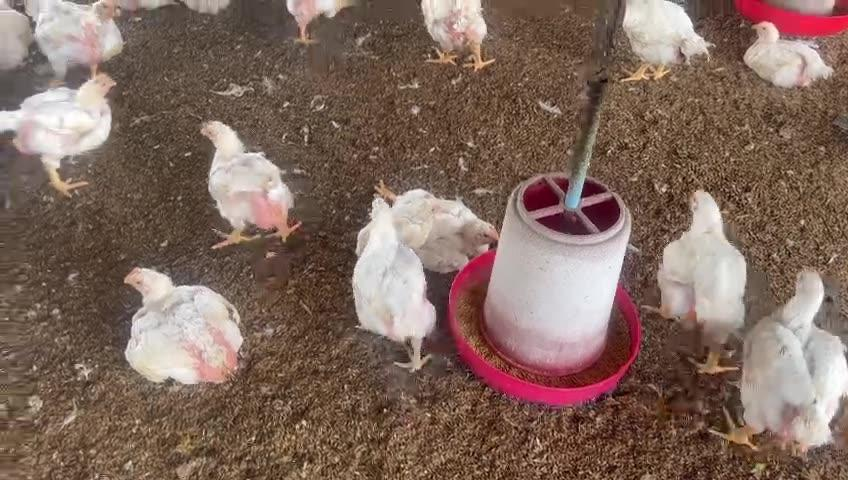AbNormal: (123, 267, 242, 387), (377, 178, 496, 268), (357, 199, 445, 264), (743, 22, 832, 85)
Normal: (718, 268, 847, 458), (662, 182, 744, 381), (0, 73, 117, 196), (351, 201, 432, 368), (199, 120, 301, 245), (35, 0, 122, 84), (623, 0, 706, 82), (418, 0, 496, 68), (286, 0, 353, 44)
